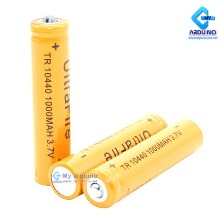battery: (78, 117, 206, 211), (46, 113, 171, 203), (27, 10, 74, 187)
